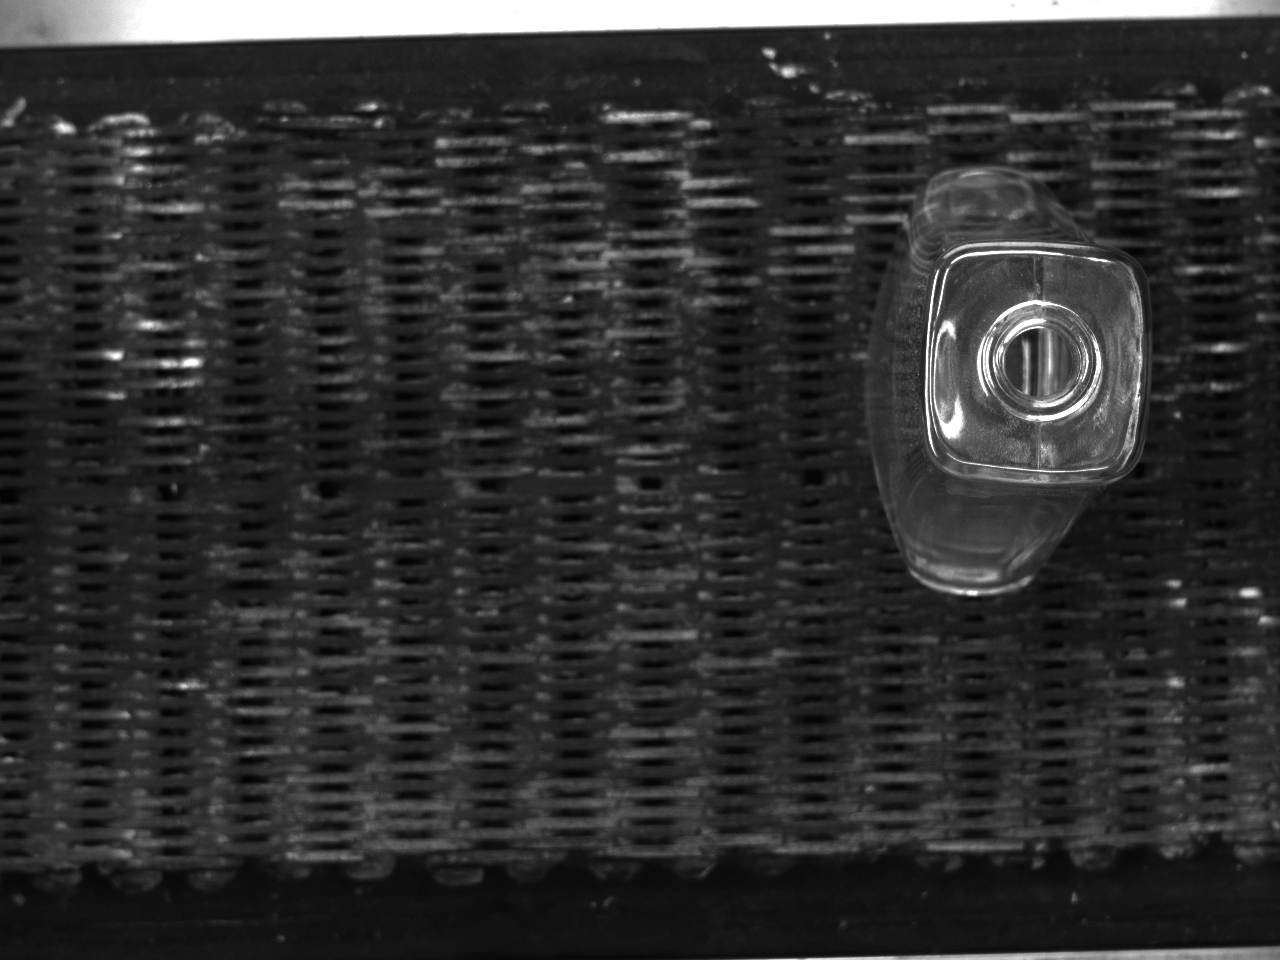bottleneck: (979, 301, 1105, 421)
